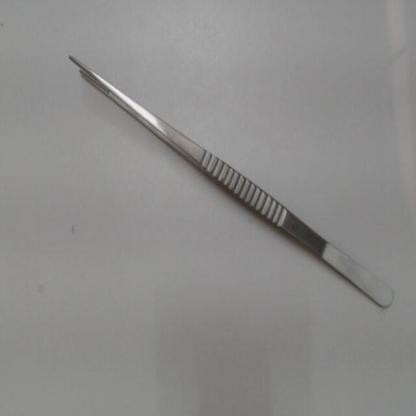DeBakey Dissector: (57, 39, 405, 323)
